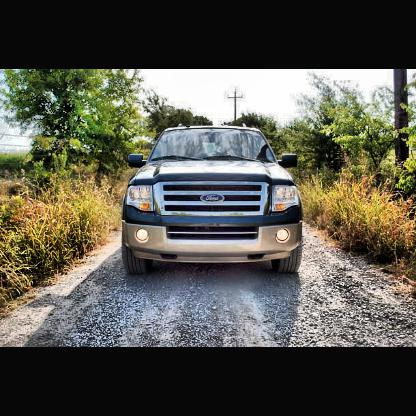Ford Expedition EL SUV 2009: (118, 123, 306, 277)
